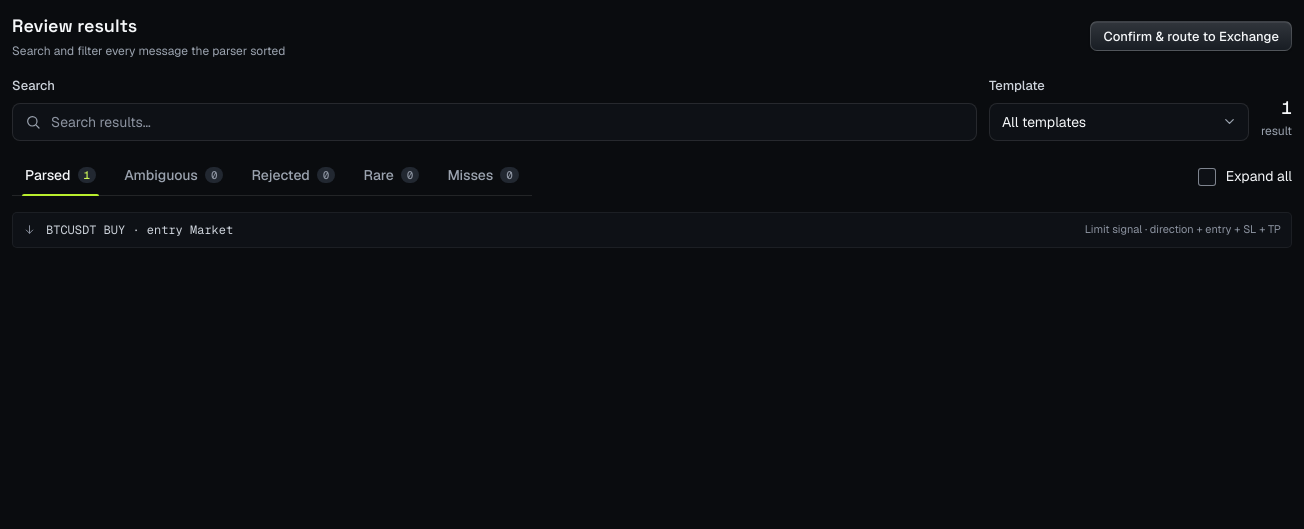
AuditReview › shows the reformatted source-message date when a parsed row is expanded
The width and height of the screenshot is (1304, 529).
Click the button "BTCUSDT BUY" at (140, 230), box [12,212,1292,248]
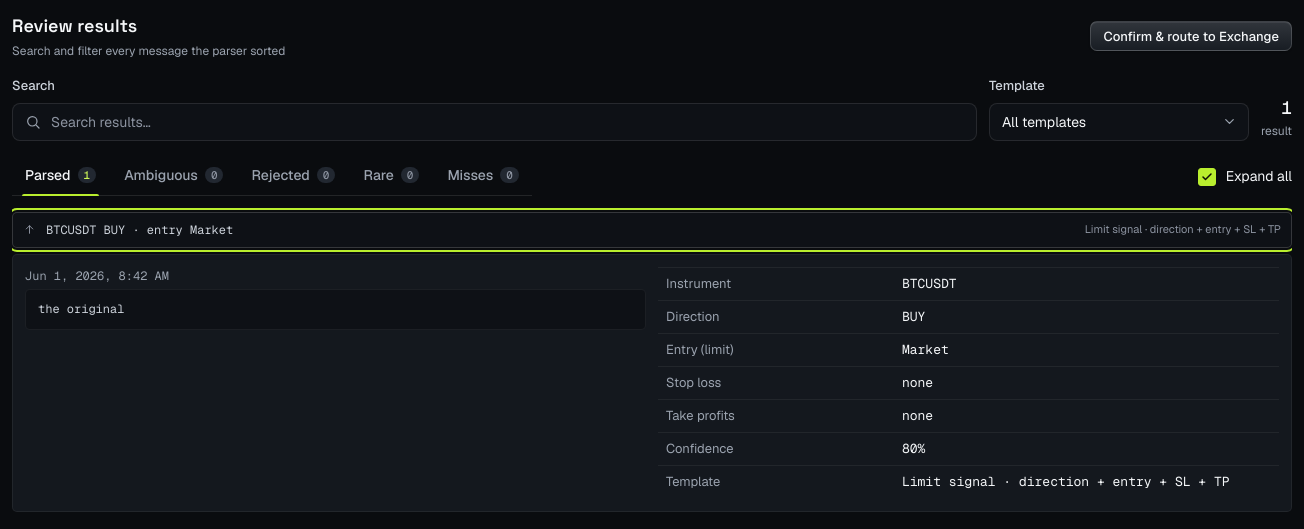
Now the text "Jun 1, 2026, 8:42 AM" is shown, box [25,268,169,284]
